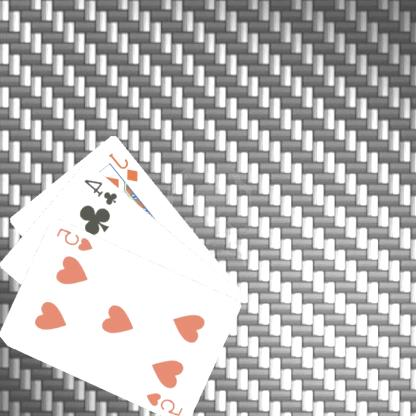4C: (82, 175, 120, 207)
5H: (55, 224, 96, 253), (145, 389, 186, 416)
JD: (107, 150, 142, 183)
